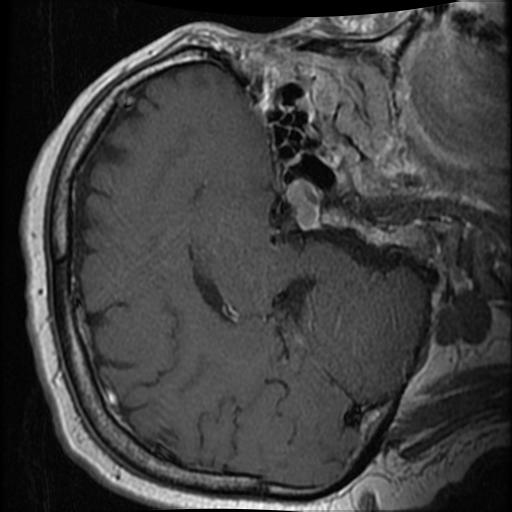pituitary tumour: (287, 179, 321, 229)
